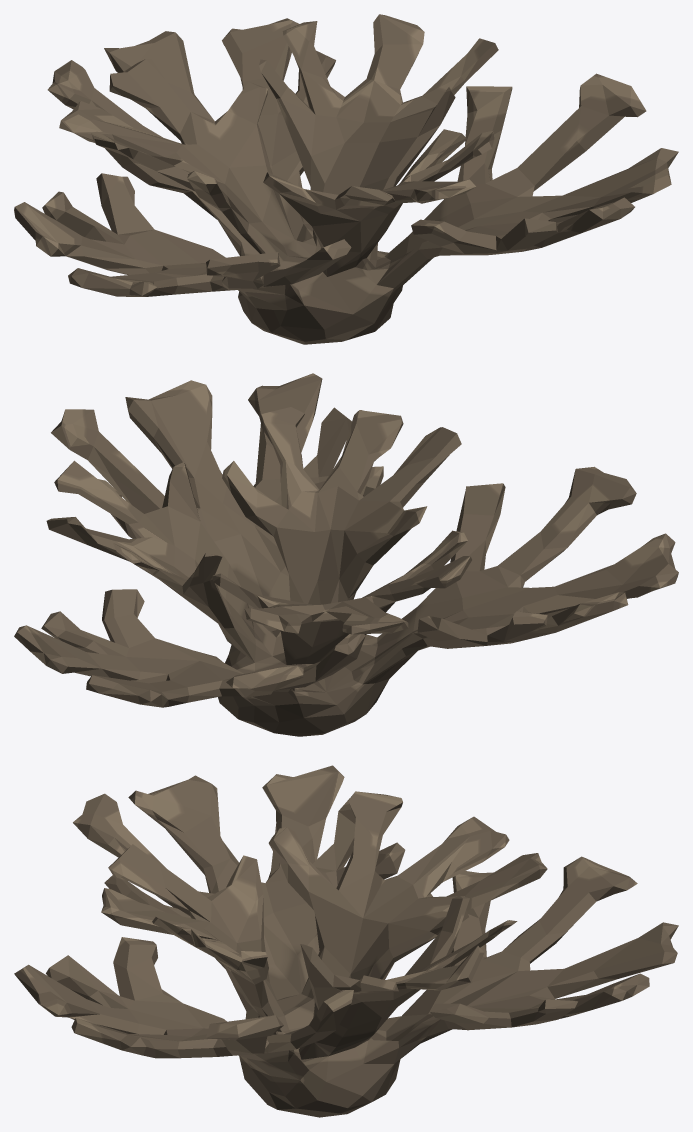
File: SM_Env_Coral_01.fbx
3 views of the same model, one above another, from view 1: azimuth 30°, elevation 25°; view 2: azimuth 150°, elevation 25°; view 3: azimuth 270°, elevation 25° (orthographic). The views are drawn at different scales.
Visible parts, largest first — view 1: SM_Env_Coral_01; view 2: SM_Env_Coral_01; view 3: SM_Env_Coral_01.
Boxes of the visible parts, x1,y1,x2,y2 form: SM_Env_Coral_01: (14, 14, 678, 344); SM_Env_Coral_01: (14, 373, 678, 736); SM_Env_Coral_01: (14, 765, 678, 1117).
Size of the model in its own units: 417 by 156 by 413.
